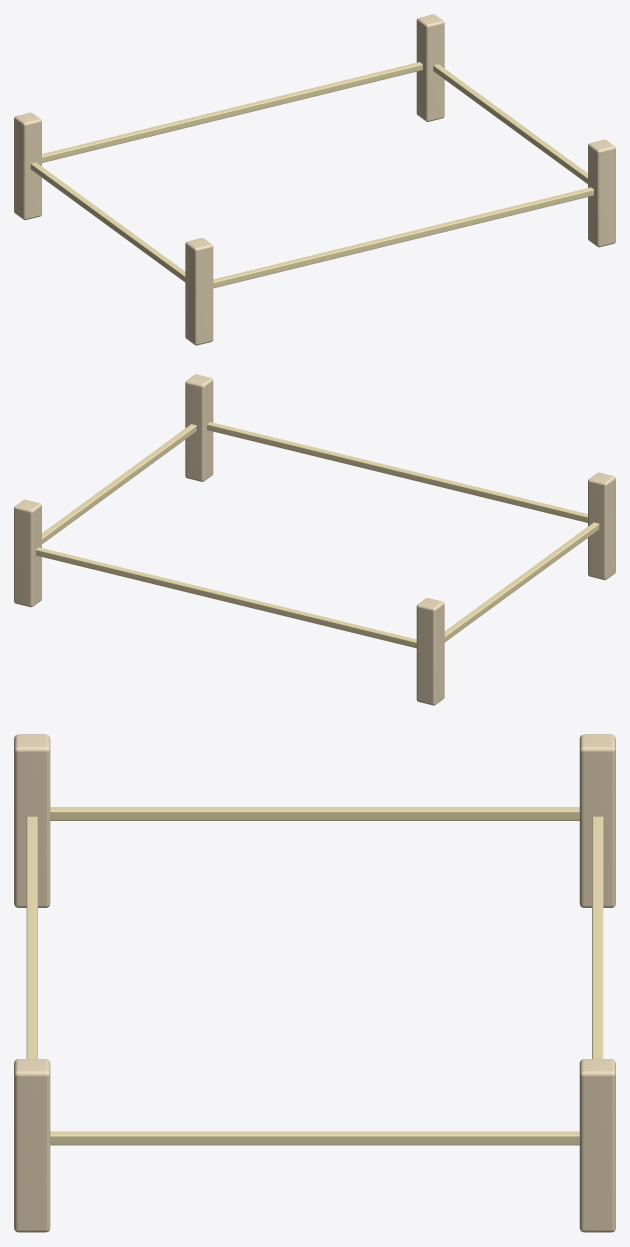
The model's file is chicken-coop-planned.glb.
3 views of the same model, one above another, from view 1: azimuth 30°, elevation 25°; view 2: azimuth 150°, elevation 25°; view 3: azimuth 270°, elevation 25° (orthographic). The views are drawn at different scales.
Parts seen in each view (by area): view 1: Setting-out cord.025, Setting-out cord.024, Survey peg.024, Survey peg.026, Survey peg.027, Survey peg.025, Setting-out cord.026, Setting-out cord.027; view 2: Setting-out cord.024, Setting-out cord.025, Survey peg.025, Survey peg.027, Survey peg.026, Survey peg.024, Setting-out cord.026, Setting-out cord.027; view 3: Setting-out cord.027, Setting-out cord.026, Survey peg.026, Survey peg.027, Survey peg.024, Survey peg.025, Setting-out cord.024, Setting-out cord.025.
Boxes of the visible parts, x1,y1,x2,y2 form: Setting-out cord.025: (42, 62, 422, 162); Setting-out cord.024: (213, 187, 593, 288); Survey peg.024: (185, 238, 213, 345); Survey peg.026: (588, 139, 615, 247); Survey peg.027: (416, 14, 444, 121); Survey peg.025: (14, 112, 41, 220); Setting-out cord.026: (30, 162, 185, 282); Setting-out cord.027: (433, 64, 587, 183); Setting-out cord.024: (207, 422, 587, 522); Setting-out cord.025: (36, 547, 416, 648); Survey peg.025: (416, 598, 444, 705); Survey peg.027: (14, 499, 41, 607); Survey peg.026: (185, 374, 213, 481); Survey peg.024: (588, 472, 615, 580); Setting-out cord.026: (444, 522, 599, 642); Setting-out cord.027: (42, 424, 196, 543); Setting-out cord.027: (50, 1131, 579, 1145); Setting-out cord.026: (50, 807, 579, 820); Survey peg.026: (14, 1059, 50, 1232); Survey peg.027: (579, 1059, 615, 1232); Survey peg.024: (14, 734, 50, 907); Survey peg.025: (579, 734, 615, 907); Setting-out cord.024: (26, 816, 37, 1058); Setting-out cord.025: (592, 816, 603, 1058).
Bounding box in the file's own units: 1.99 × 0.44 × 1.49.
